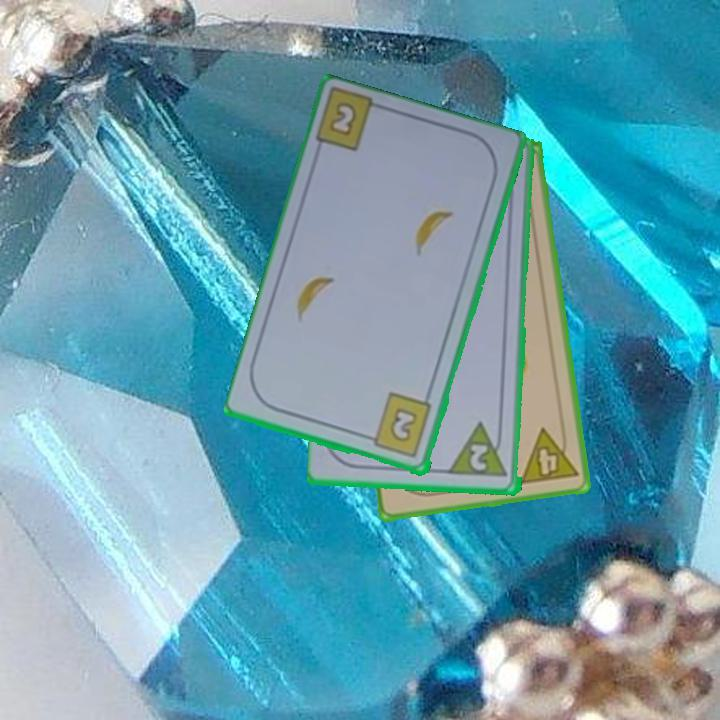2b: (361, 390, 435, 461), (326, 98, 360, 140)
2p: (448, 420, 511, 480)
4p: (516, 422, 581, 487)
